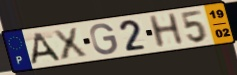2: (120, 18, 151, 54)
5: (178, 8, 210, 44)
A: (29, 31, 63, 66)
G: (88, 22, 119, 56)
H: (146, 11, 186, 50)
X: (50, 26, 90, 62)
